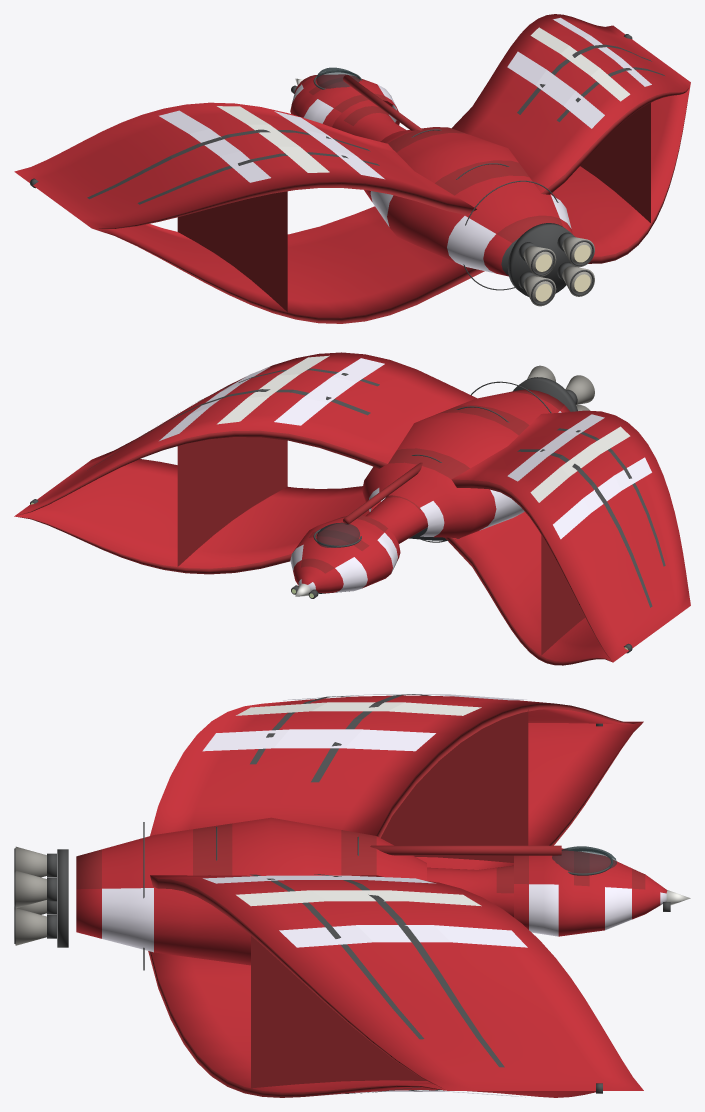
File: Ship_Talonhunter_585024.glb
3 views of the same model, one above another, from view 1: azimuth 30°, elevation 25°; view 2: azimuth 150°, elevation 25°; view 3: azimuth 270°, elevation 25° (orthographic). The views are drawn at different scales.
Visible parts, largest first — view 1: WingUpper_Left_ForwardSweptCrescentPlate, WingLower_Left_ForwardSweptCrescentPlate, WingUpper_Right_ForwardSweptCrescentPlate, ReactorBody_AftOvalCore, WingLower_Right_ForwardSweptCrescentPlate, WingMidRib_Left_OpenGapSupportStrut, WingMidRib_Right_OpenGapSupportStrut, CommandHead_BeakedForwardPod, PaintImperialBand_Right_Upper_01, EngineDeck_AftCompactMountPlate, PaintImperialBand_Left_Upper_03, CommandNeck_NarrowForwardSpine (+13 smaller); view 2: WingUpper_Left_ForwardSweptCrescentPlate, WingUpper_Right_ForwardSweptCrescentPlate, WingLower_Right_ForwardSweptCrescentPlate, ReactorBody_AftOvalCore, WingMidRib_Right_OpenGapSupportStrut, WingLower_Left_ForwardSweptCrescentPlate, CommandHead_BeakedForwardPod, WingMidRib_Left_OpenGapSupportStrut, PaintImperialBand_Right_Upper_01, PaintImperialBand_Left_Upper_03, CommandNeck_NarrowForwardSpine, PaintImperialBand_Left_Upper_02 (+10 smaller); view 3: WingUpper_Right_ForwardSweptCrescentPlate, WingUpper_Left_ForwardSweptCrescentPlate, ReactorBody_AftOvalCore, WingMidRib_Left_OpenGapSupportStrut, WingMidRib_Right_OpenGapSupportStrut, WingLower_Right_ForwardSweptCrescentPlate, CommandHead_BeakedForwardPod, WingLower_Left_ForwardSweptCrescentPlate, PaintImperialBand_Left_Upper_01, PaintImperialBand_Right_Upper_03, PaintImperialBand_Right_Upper_02, CommandNeck_NarrowForwardSpine (+11 smaller).
Boxes of the visible parts, <box> form: WingUpper_Left_ForwardSweptCrescentPlate: <box>14,102,476,228</box>; WingLower_Left_ForwardSweptCrescentPlate: <box>93,206,484,323</box>; WingUpper_Right_ForwardSweptCrescentPlate: <box>452,14,690,194</box>; ReactorBody_AftOvalCore: <box>364,127,572,276</box>; WingLower_Right_ForwardSweptCrescentPlate: <box>553,84,690,263</box>; WingMidRib_Left_OpenGapSupportStrut: <box>177,191,287,311</box>; WingMidRib_Right_OpenGapSupportStrut: <box>580,103,650,222</box>; CommandHead_BeakedForwardPod: <box>290,74,399,126</box>; PaintImperialBand_Right_Upper_01: <box>507,51,604,128</box>; EngineDeck_AftCompactMountPlate: <box>507,223,572,296</box>; PaintImperialBand_Left_Upper_03: <box>159,110,270,182</box>; CommandNeck_NarrowForwardSpine: <box>332,100,406,141</box>; WingUpper_Left_ForwardSweptCrescentPlate: <box>451,410,690,662</box>; WingUpper_Right_ForwardSweptCrescentPlate: <box>14,352,476,516</box>; WingLower_Right_ForwardSweptCrescentPlate: <box>14,459,369,574</box>; ReactorBody_AftOvalCore: <box>362,389,570,540</box>; WingMidRib_Right_OpenGapSupportStrut: <box>177,437,287,566</box>; WingLower_Left_ForwardSweptCrescentPlate: <box>445,512,612,665</box>; CommandHead_BeakedForwardPod: <box>290,515,400,593</box>; WingMidRib_Left_OpenGapSupportStrut: <box>541,535,585,655</box>; PaintImperialBand_Right_Upper_01: <box>274,358,384,425</box>; PaintImperialBand_Left_Upper_03: <box>553,457,651,539</box>; CommandNeck_NarrowForwardSpine: <box>365,495,428,543</box>; PaintImperialBand_Left_Upper_02: <box>530,426,630,502</box>; WingUpper_Right_ForwardSweptCrescentPlate: <box>150,875,643,1090</box>; WingUpper_Left_ForwardSweptCrescentPlate: <box>150,695,643,837</box>; ReactorBody_AftOvalCore: <box>76,817,426,965</box>; WingMidRib_Left_OpenGapSupportStrut: <box>381,709,528,862</box>; WingMidRib_Right_OpenGapSupportStrut: <box>251,936,426,1088</box>; WingLower_Right_ForwardSweptCrescentPlate: <box>148,951,595,1097</box>; CommandHead_BeakedForwardPod: <box>514,848,667,936</box>; WingLower_Left_ForwardSweptCrescentPlate: <box>416,722,643,869</box>; PaintImperialBand_Left_Upper_01: <box>202,729,435,751</box>; PaintImperialBand_Right_Upper_03: <box>279,925,527,947</box>; PaintImperialBand_Right_Upper_02: <box>236,890,481,906</box>; CommandNeck_NarrowForwardSpine: <box>427,865,513,917</box>.
Size of the model in its own units: 8.26 by 1.96 by 6.39.
